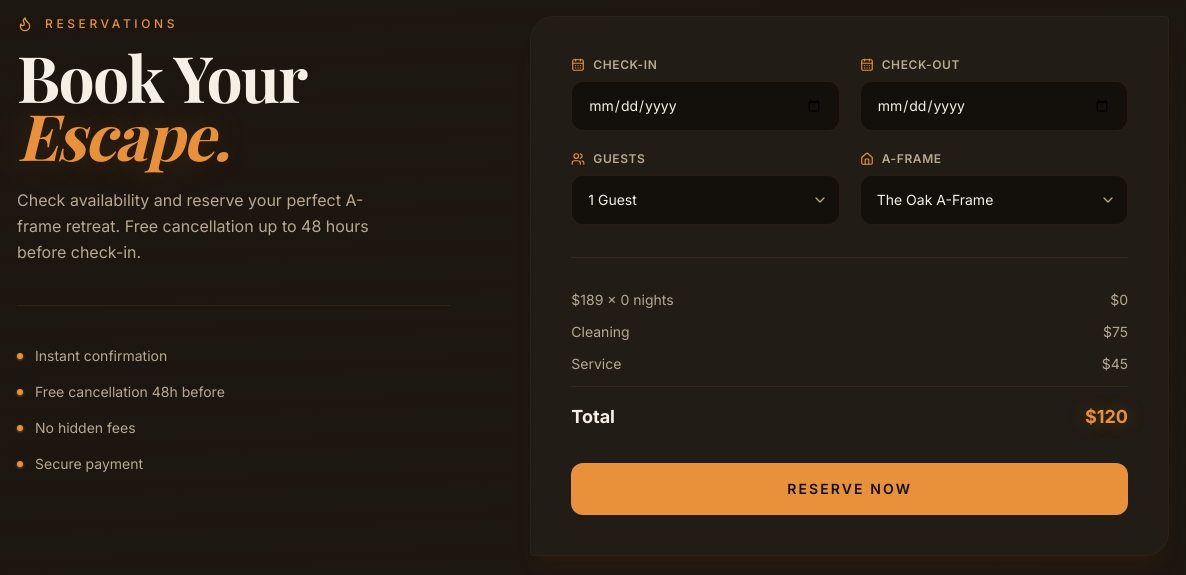
Test: Booking Form Interaction › updates total when house selection changes
Select "The Ember A-Frame" in the dropdown labelled "A-Frame" at (994, 200), box top-left (860, 175), bottom-right (1128, 225)
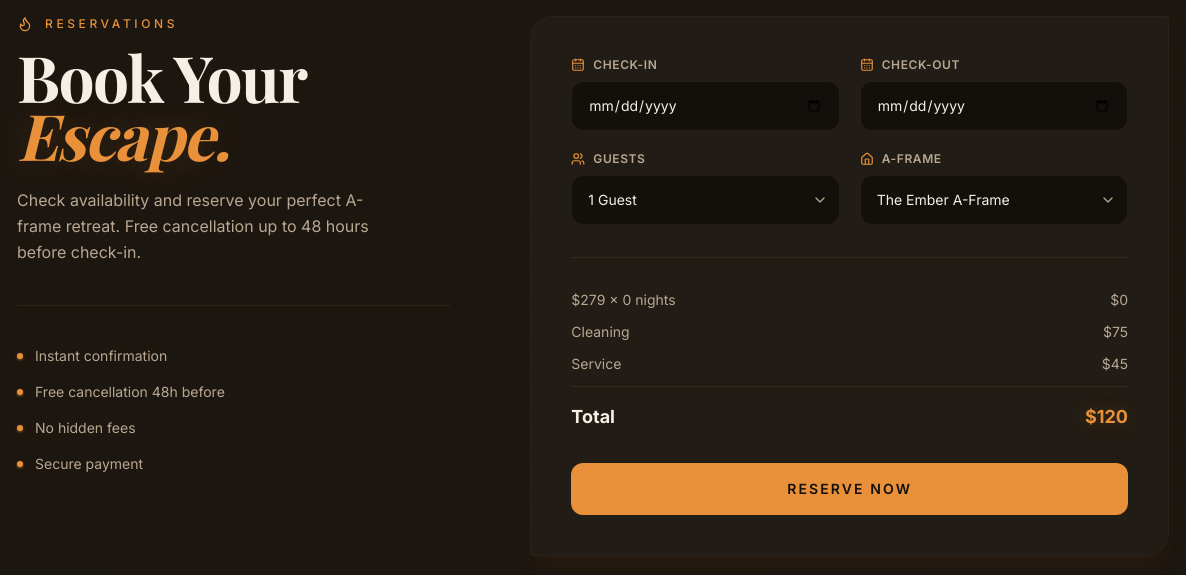
Type "2025-03-15" into the date field labelled "Check-in" at (705, 106), box top-left (571, 81), bottom-right (840, 131)
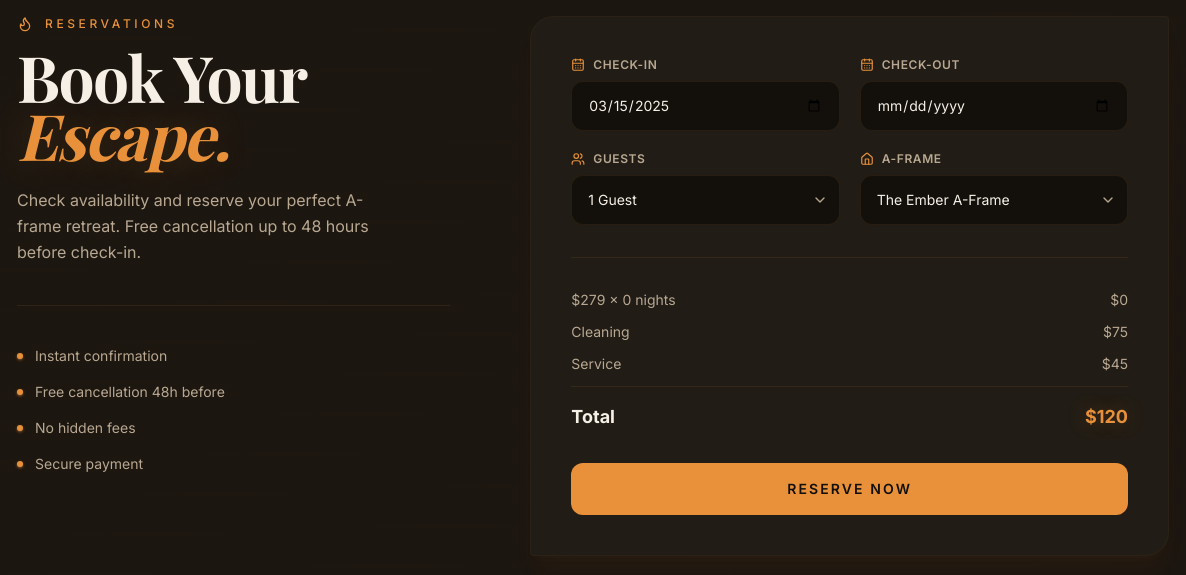
Type "2025-03-18" into the date field labelled "Check-out" at (994, 106), box top-left (860, 81), bottom-right (1128, 131)
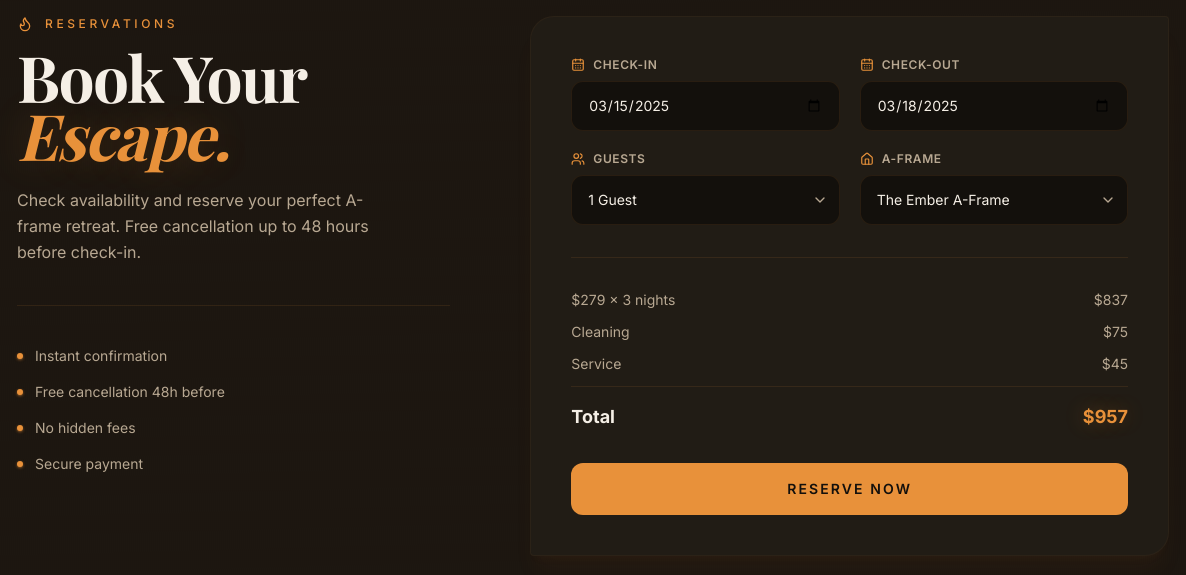
Expected: the text "$279 × 3 nights" is shown, top-left (571, 290), bottom-right (675, 310)
